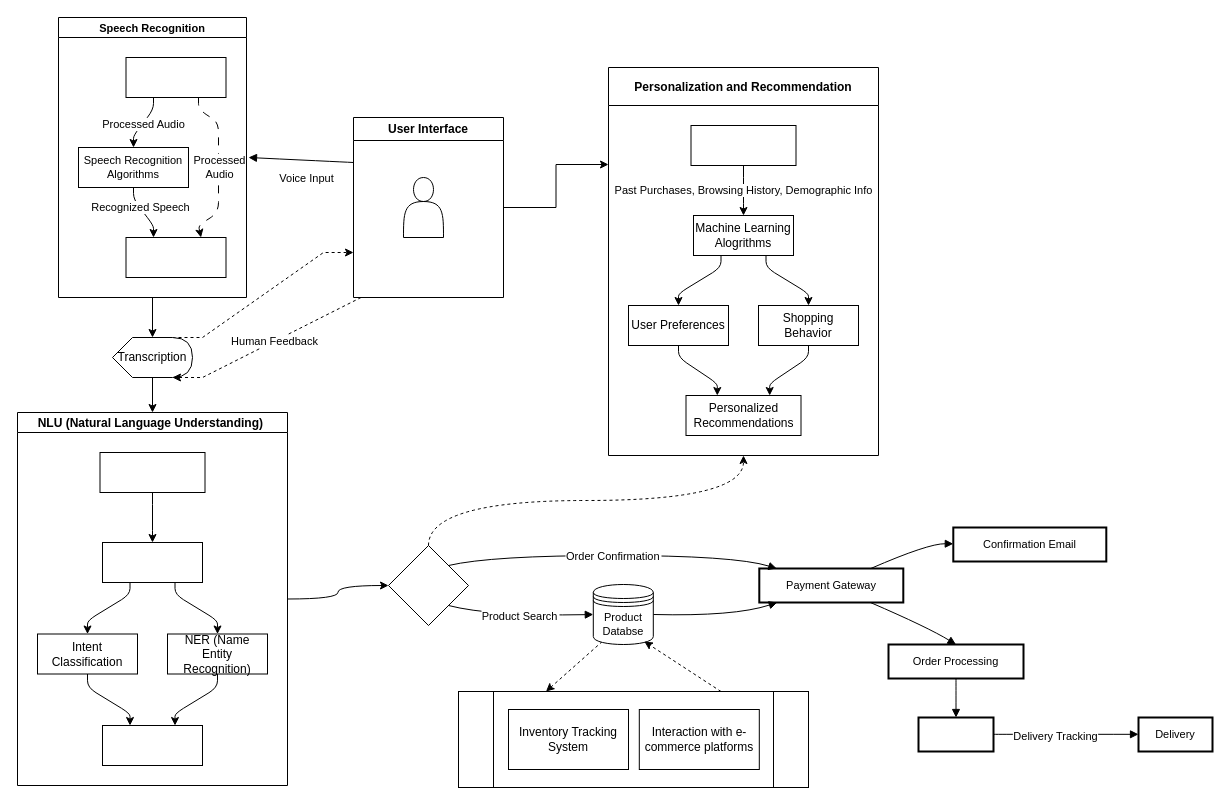
Some shapes in this 1231 by 805 pixel diagram are drawn without their labels. Here are the shapes that lost their labels. From the top down, the centre of each, then its label:
(175,77): Audio Processing
(743,145): User Data
(423,207): User
(175,257): Language Models
(152,472): Intent Recognition
(152,562): Entity Extraction
(428,585): Query
(152,745): Machine Learning Models
(955,734): Shipping
